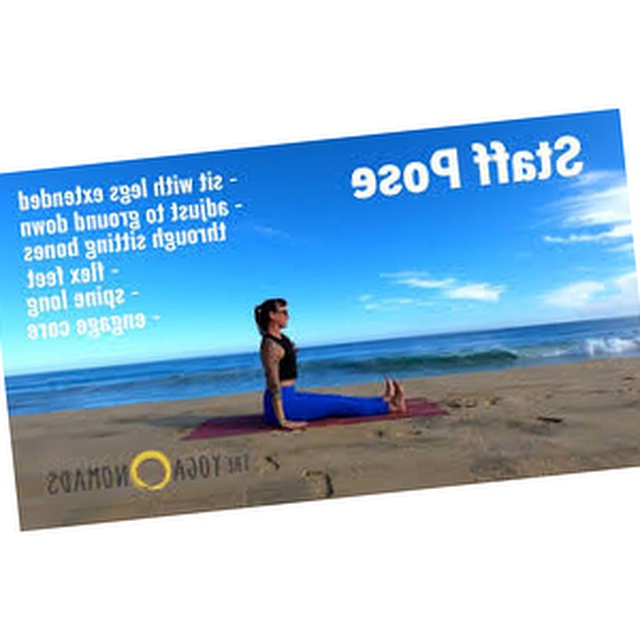Staff_Pose: (254, 298, 406, 428)
